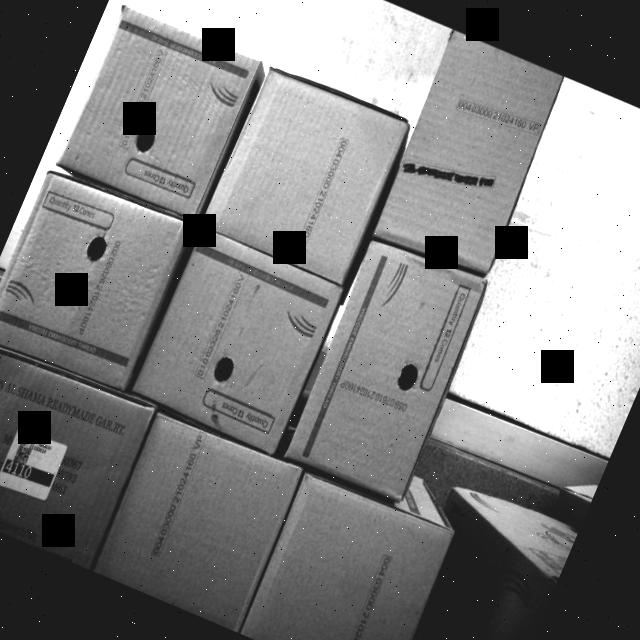box: (278, 237, 492, 509), (364, 28, 573, 285), (92, 408, 308, 630), (202, 63, 418, 284), (56, 1, 268, 222), (136, 235, 347, 453), (0, 167, 194, 393), (0, 331, 159, 570), (237, 472, 451, 640)
